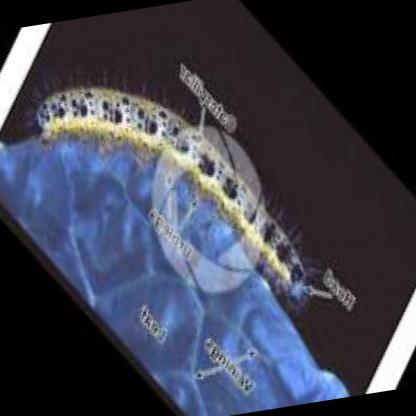pieris: (31, 81, 309, 293)
